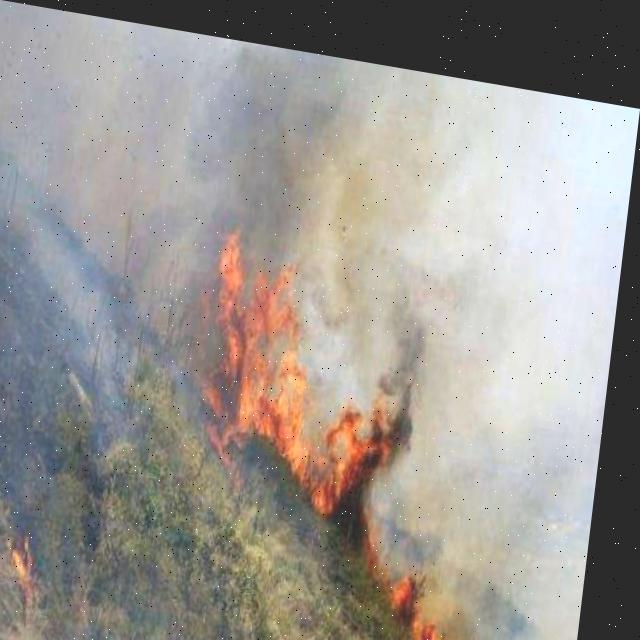Fire: (190, 215, 499, 639)
